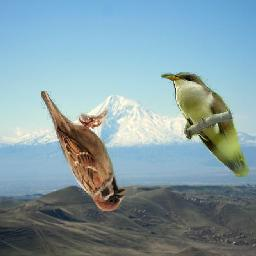Cuckoo: (162, 73, 251, 178)
Sparrow: (41, 91, 125, 211)
